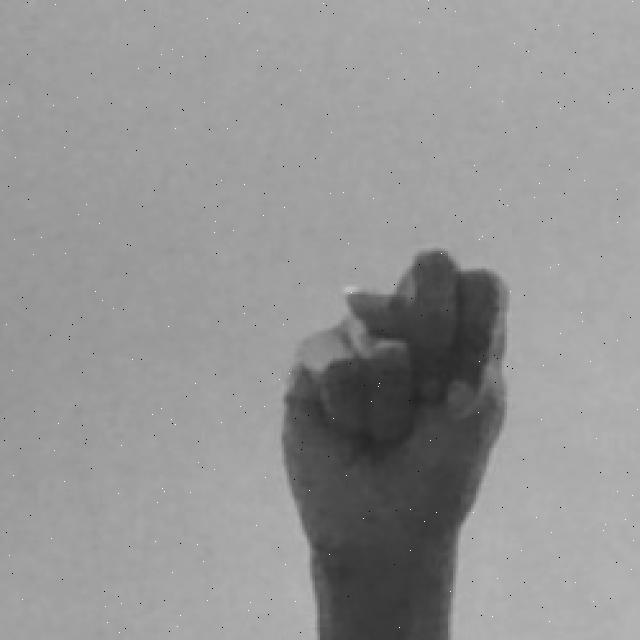N: (280, 246, 512, 640)
